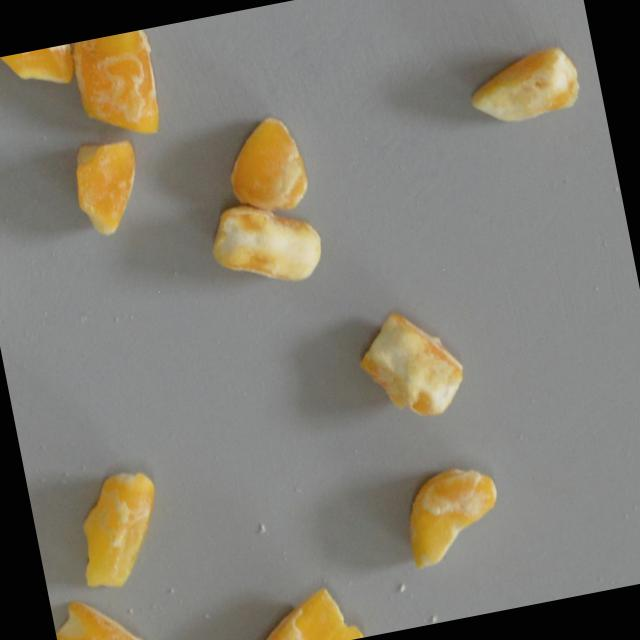dañado: (346, 298, 473, 434), (391, 456, 513, 578), (200, 188, 329, 301), (459, 39, 588, 139), (65, 27, 169, 151), (215, 104, 316, 220), (62, 132, 153, 245), (229, 575, 368, 640), (48, 582, 151, 640), (0, 43, 79, 105)
pelicula: (60, 458, 177, 600)
